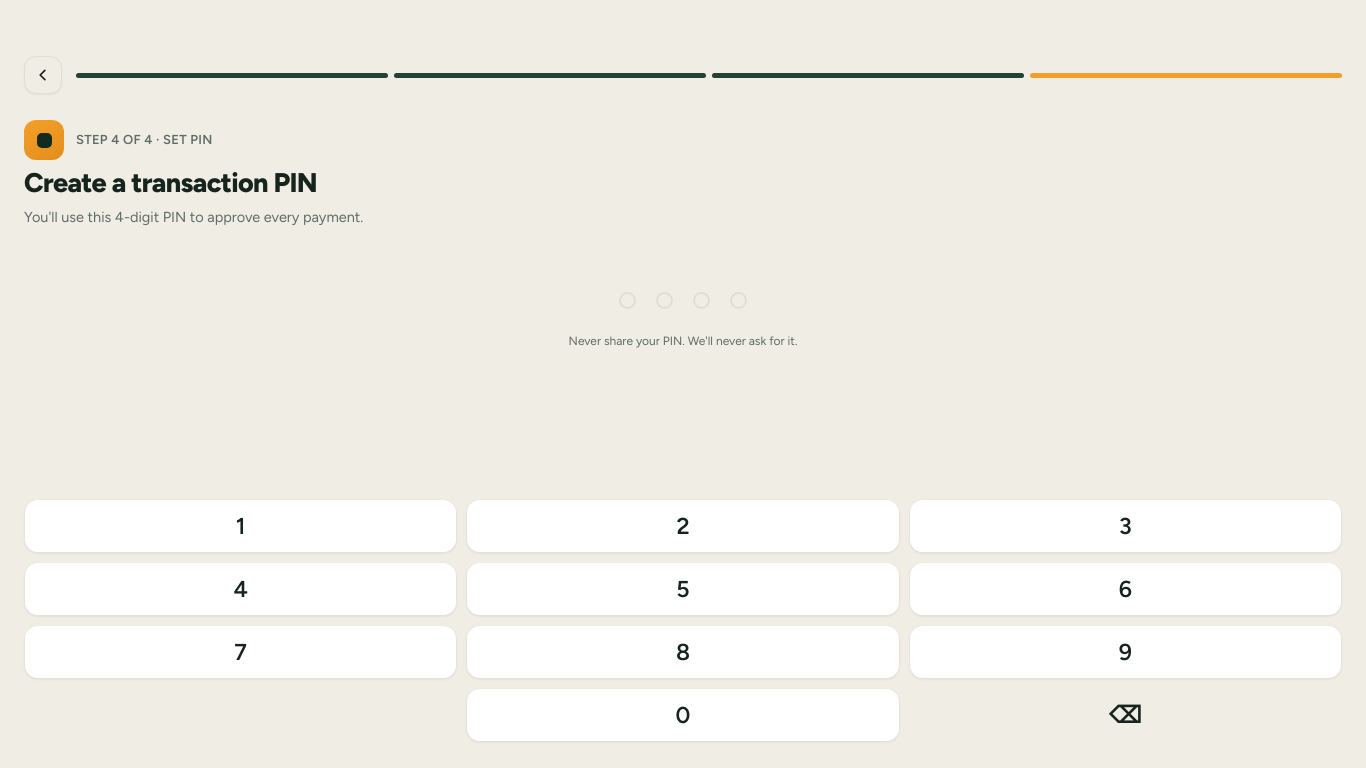
Test: OnboardingWizard › mobile keypad taps fill the create screen then advance to the confirm screen
Check: the heading "Create a transaction PIN" is shown, box [24,166,317,199]
Click the button "2".
click(683, 526)  # box [466,499,900,553]
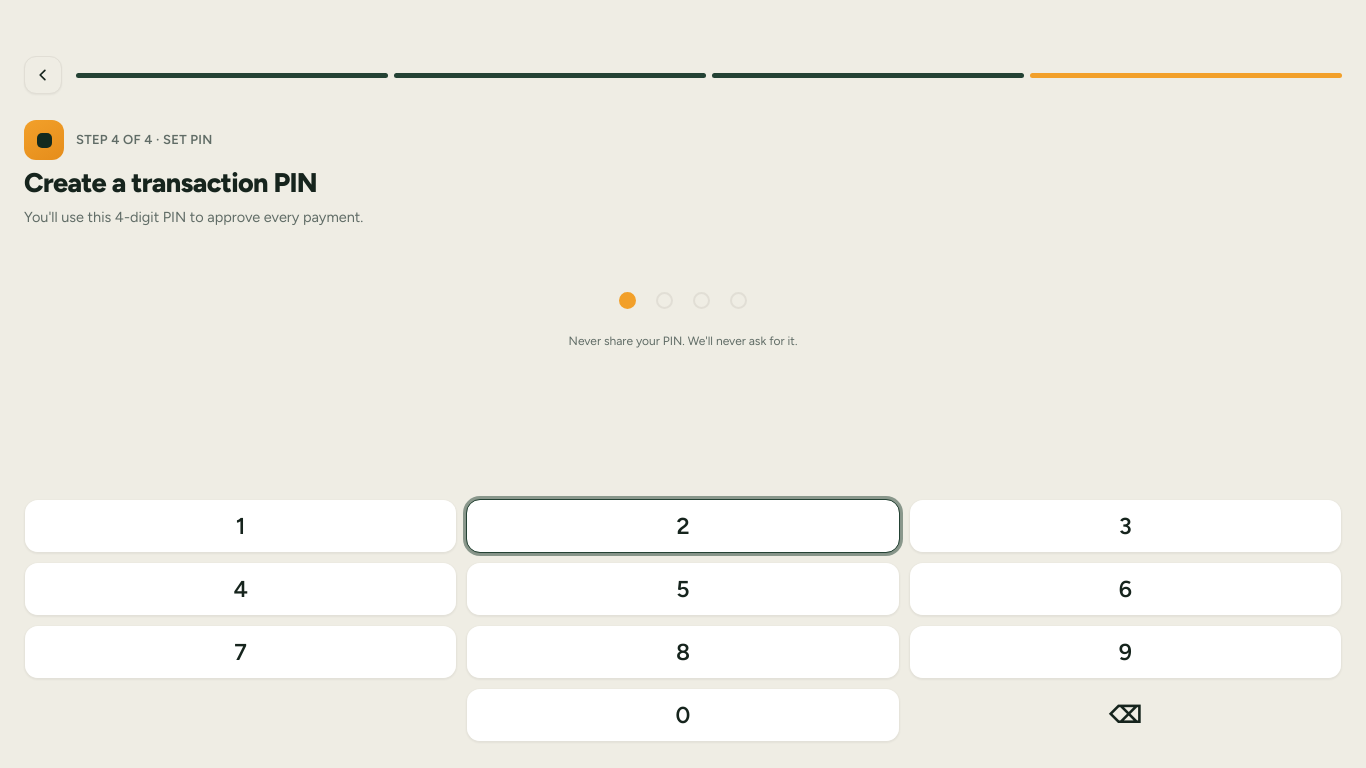
Click the button "4".
click(241, 589)  # box [24,562,457,616]
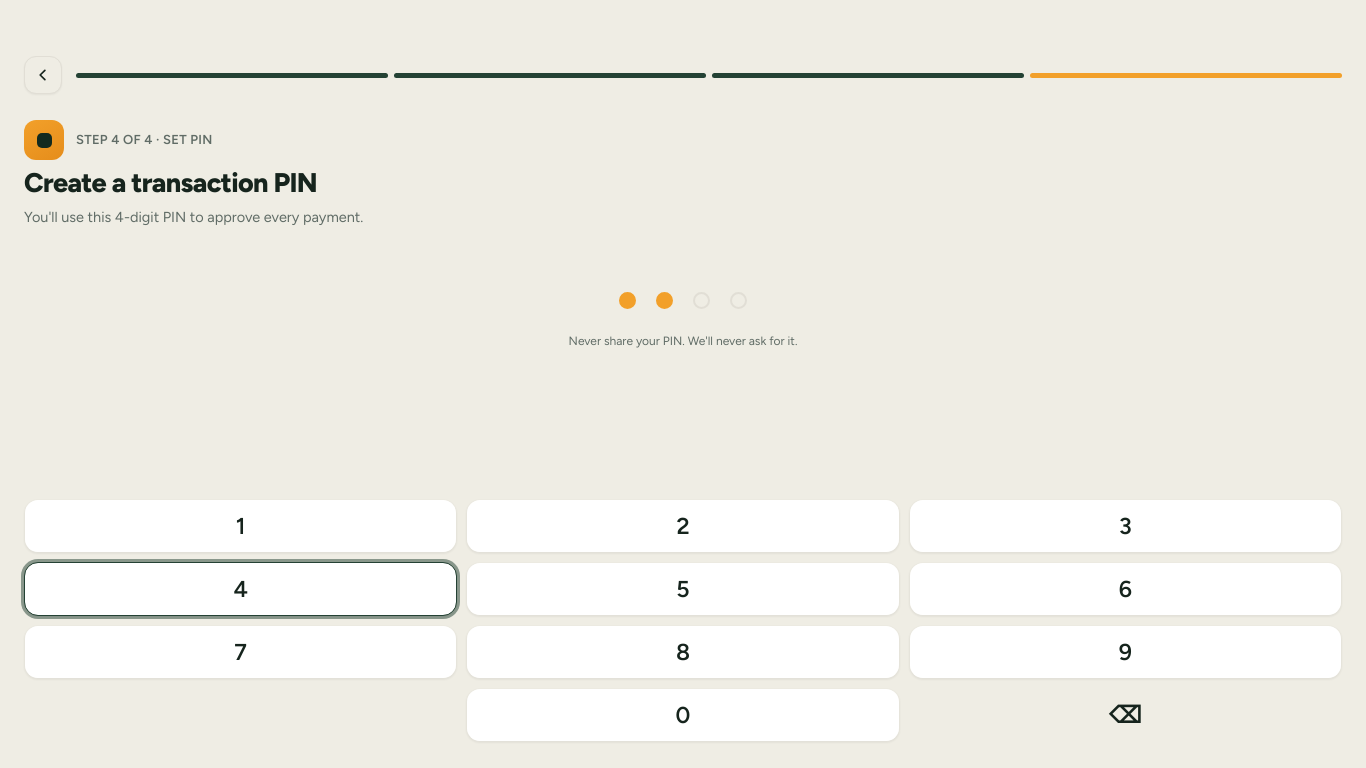
Click the button "6".
click(1125, 589)  # box [909,562,1342,616]
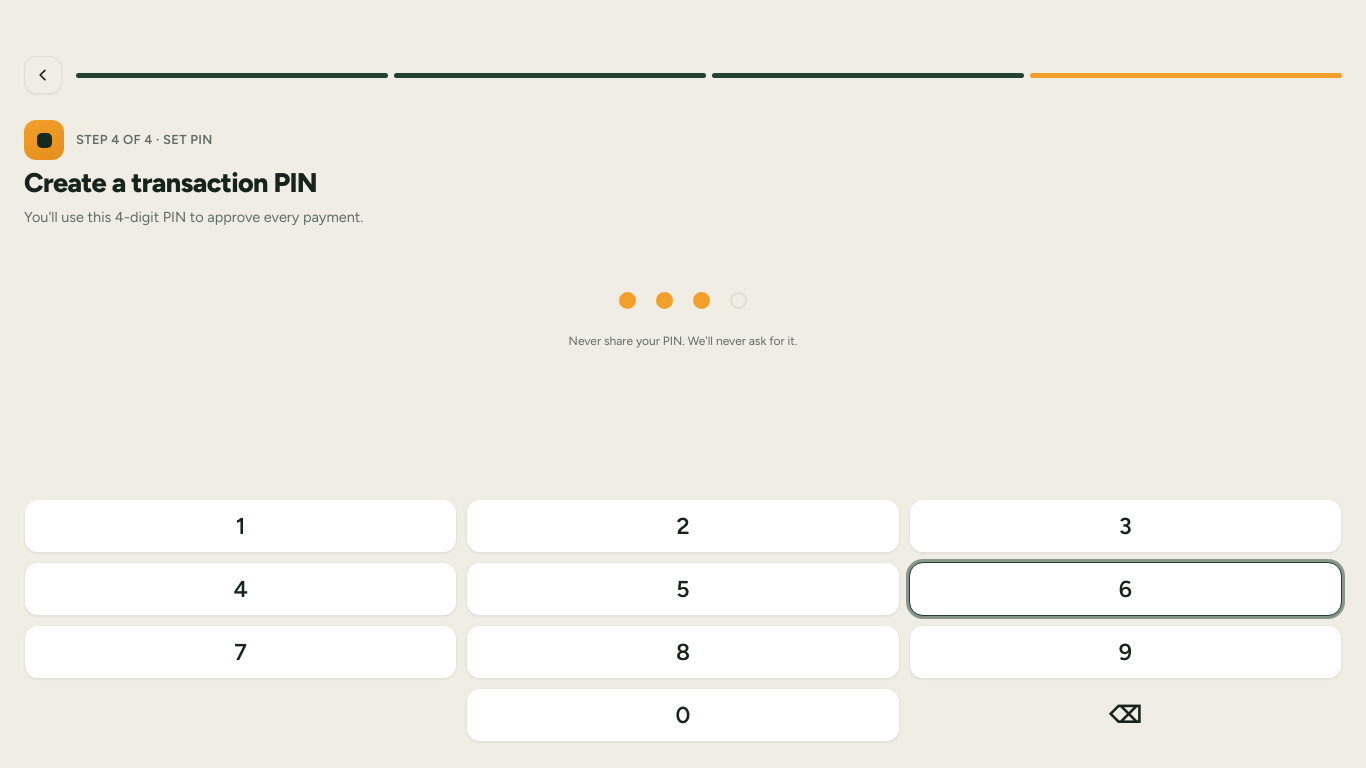
Click the button "8".
click(683, 652)  # box [466,625,900,679]
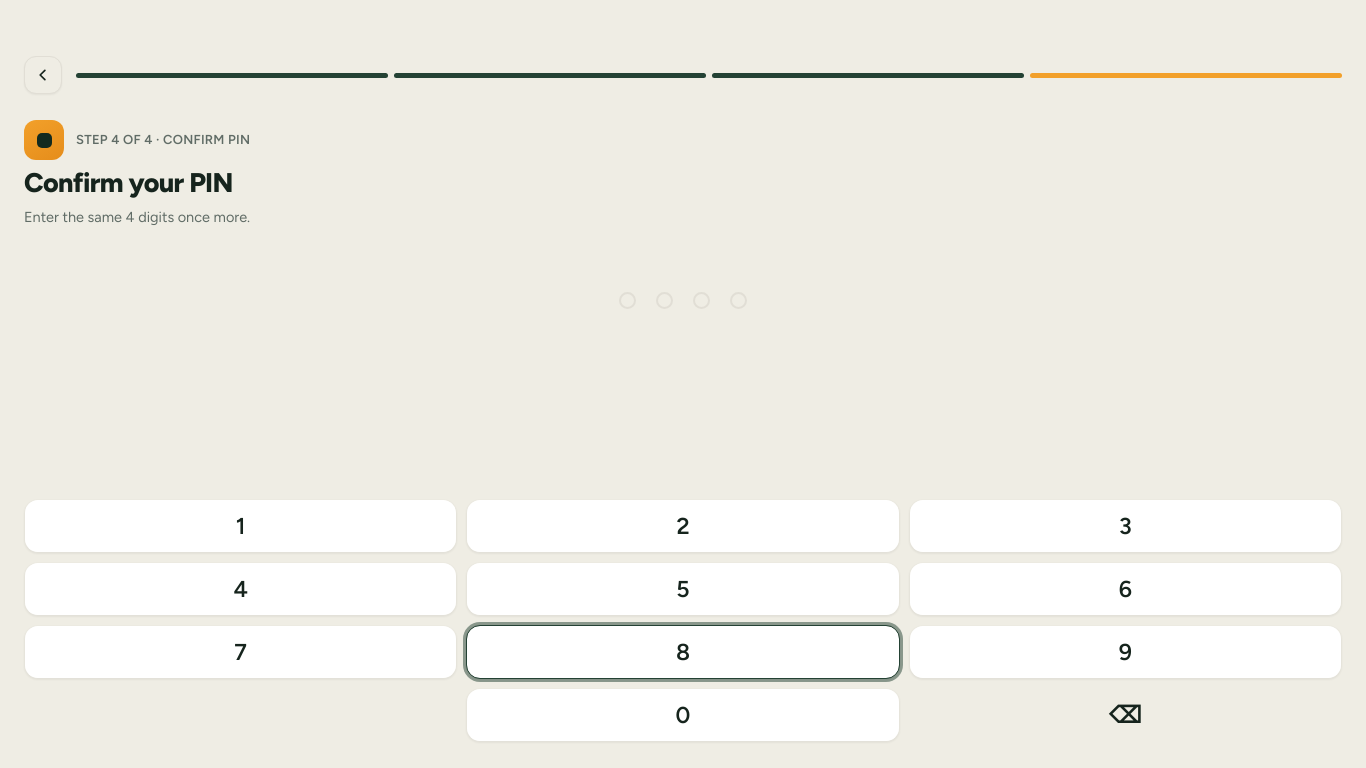
Check: the heading "Confirm your PIN" is shown, box [24,166,233,199]
